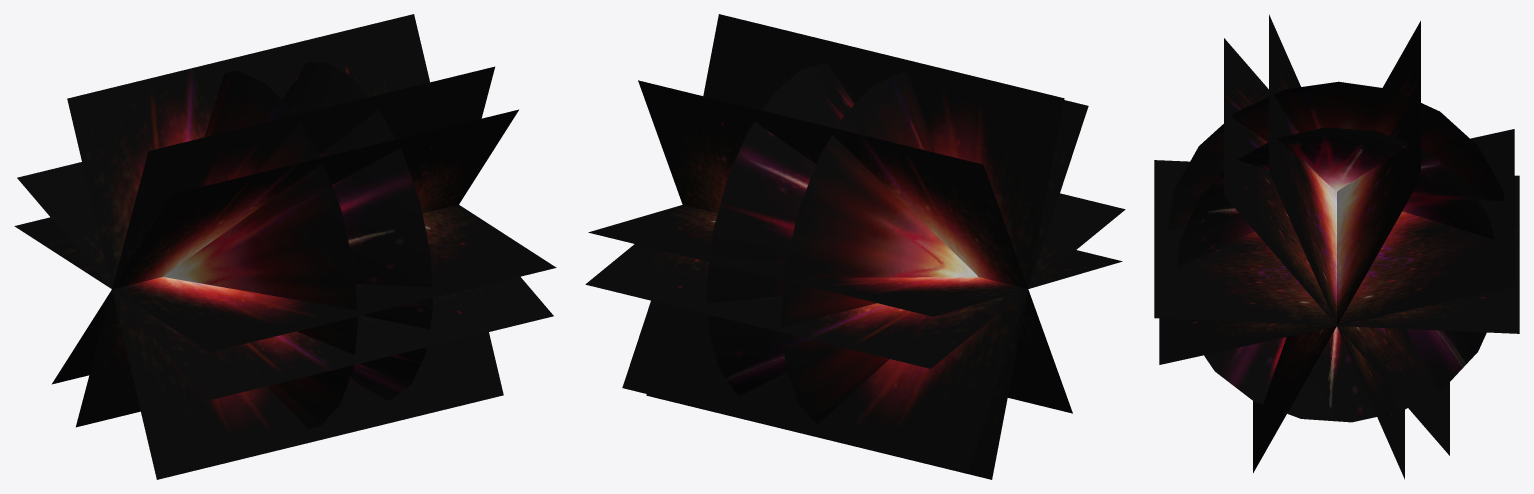
The model's file is Firing_BCN.FBX.
3 views of the same model, side by side, from view 1: azimuth 30°, elevation 25°; view 2: azimuth 150°, elevation 25°; view 3: azimuth 270°, elevation 25° (orthographic). The views are drawn at different scales.
Visible parts, largest first — view 1: Firing_BCN; view 2: Firing_BCN; view 3: Firing_BCN.
Part boxes in pixels (left/top/right/bottom): Firing_BCN: left=14, top=14, right=556, bottom=479; Firing_BCN: left=585, top=14, right=1125, bottom=479; Firing_BCN: left=1154, top=14, right=1519, bottom=479.
Bounding box in the file's own units: 51.4 × 47.49 × 50.21.
1 material, 1 textured.
